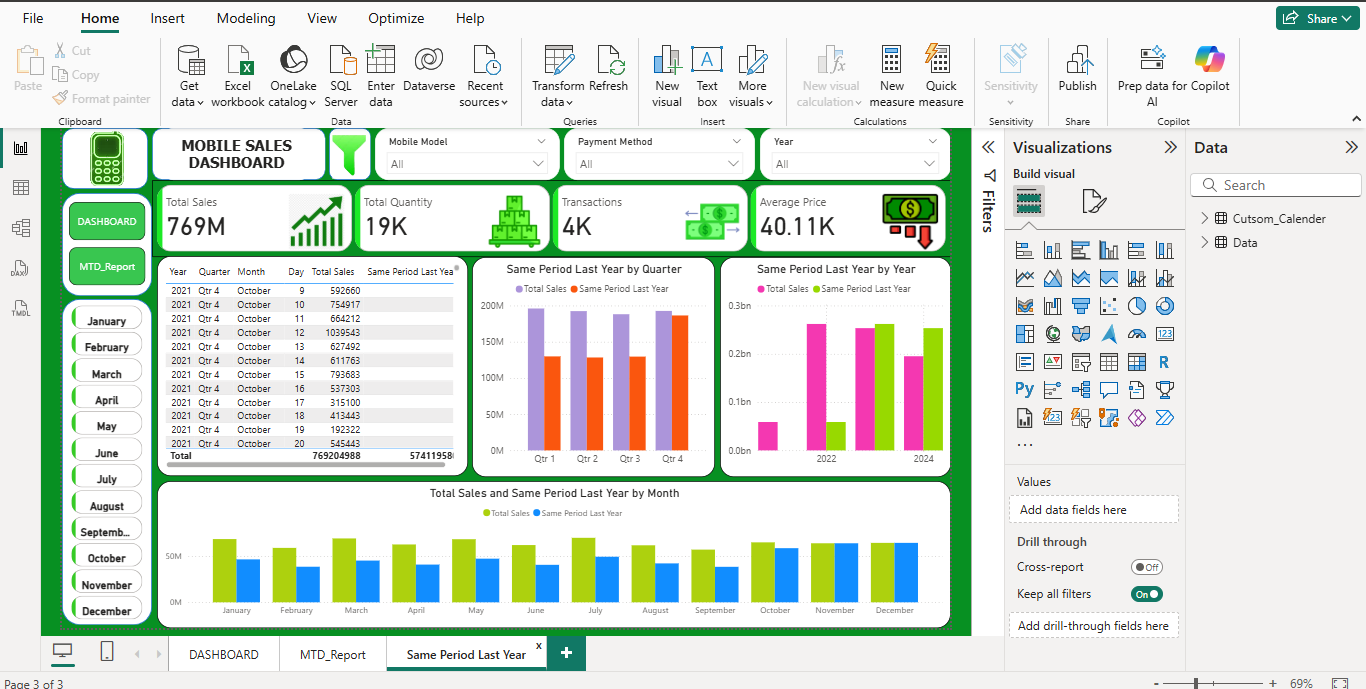

Layout of this report page (visuals, bound fields, positions):
{"tool":"powerbi","page":{"name":"Same Period Last Year","canvas":[1280,720],"ordinal":2},"visuals":[{"type":"shape","box":[0,0,123.8,87.8],"z":0},{"type":"image","box":[0,0,129.6,87.8],"z":1000},{"type":"shape","box":[0,93,129.6,148.3],"z":2000},{"type":"cardVisual","fields":{"Data":["Data.Total Sales","Data.Total Quantity","Data.Transactions","Data.Average Price"]},"box":[129.6,74.9,1150.6,110.9],"z":3000},{"type":"slicer","fields":{"Values":["Data.Mobile Model"]},"box":[451,0,266,74.9],"z":4000},{"type":"shape","box":[384.5,0,60.5,74.9],"z":5000},{"type":"slicer","fields":{"Values":["Data.Payment Method"]},"box":[723,0,275,74.9],"z":6000},{"type":"shape","box":[129.6,0,250,74.9],"z":7000},{"type":"slicer","fields":{"Values":["Cutsom_Calender.Date.Variation.Date Hierarchy.Year"]},"box":[1005,0,275,74.9],"z":8000},{"type":"image","box":[384.5,0,57.6,77.8],"z":9000},{"type":"textbox","box":[141.1,0,220.3,74.9],"z":10000},{"type":"shape","box":[0,246,129.6,469.4],"z":11000},{"type":"advancedSlicerVisual","fields":{"Values":["Cutsom_Calender.Date.Variation.Date Hierarchy.Month"]},"box":[8.6,250.6,112.3,469.4],"z":12000},{"type":"tableEx","fields":{"Values":["Cutsom_Calender.Date.Variation.Date Hierarchy.Year","Cutsom_Calender.Date.Variation.Date Hierarchy.Quarter","Cutsom_Calender.Date.Variation.Date Hierarchy.Month","Cutsom_Calender.Date.Variation.Date Hierarchy.Day","Data.Total Sales","Data.Same Period Last Year"]},"box":[136.8,184.3,447.8,316.8],"z":13000},{"type":"clusteredColumnChart","title":"Same Period Last Year by Year","fields":{"Category":["Cutsom_Calender.Date.Variation.Date Hierarchy.Year","Cutsom_Calender.Date.Variation.Date Hierarchy.Quarter","Cutsom_Calender.Date.Variation.Date Hierarchy.Month","Cutsom_Calender.Date.Variation.Date Hierarchy.Day"],"Y":["Data.Total Sales","Data.Same Period Last Year"]},"box":[947,185.8,333,316.8],"z":14000},{"type":"clusteredColumnChart","fields":{"Category":["Cutsom_Calender.Date.Variation.Date Hierarchy.Year","Cutsom_Calender.Date.Variation.Date Hierarchy.Quarter","Cutsom_Calender.Date.Variation.Date Hierarchy.Month","Cutsom_Calender.Date.Variation.Date Hierarchy.Day"],"Y":["Data.Total Sales","Data.Same Period Last Year"]},"box":[136.8,508.3,1143.4,211.7],"z":15000},{"type":"clusteredColumnChart","title":"Same Period Last Year by Quarter","fields":{"Category":["Cutsom_Calender.Date.Variation.Date Hierarchy.Year","Cutsom_Calender.Date.Variation.Date Hierarchy.Quarter","Cutsom_Calender.Date.Variation.Date Hierarchy.Month","Cutsom_Calender.Date.Variation.Date Hierarchy.Day"],"Y":["Data.Total Sales","Data.Same Period Last Year"]},"box":[590,185.8,349.9,316.8],"z":16000},{"type":"pageNavigator","box":[10.1,106.6,110.9,121],"z":17000}]}

Visuals, with their boxes on the page's 1280x720 design canvas (x1, y1, x2, y2). These are canvas units, not pixel positions in the 1366x689 screenshot, which may show the page scaled, cropped or inside an application window:
shape: 0/0/124/88
image: 0/0/130/88
shape: 0/93/130/241
cardVisual - Data.Total Sales x Data.Total Quantity: 130/75/1280/186
slicer - Data.Mobile Model: 451/0/717/75
shape: 384/0/445/75
slicer - Data.Payment Method: 723/0/998/75
shape: 130/0/380/75
slicer - Cutsom_Calender.Date.Variation.Date Hierarchy.Year: 1005/0/1280/75
image: 384/0/442/78
textbox: 141/0/361/75
shape: 0/246/130/715
advancedSlicerVisual - Cutsom_Calender.Date.Variation.Date Hierarchy.Month: 9/251/121/720
tableEx - Cutsom_Calender.Date.Variation.Date Hierarchy.Year x Cutsom_Calender.Date.Variation.Date Hierarchy.Quarter: 137/184/585/501
"Same Period Last Year by Year" clusteredColumnChart: 947/186/1280/503
clusteredColumnChart - Cutsom_Calender.Date.Variation.Date Hierarchy.Year x Cutsom_Calender.Date.Variation.Date Hierarchy.Quarter: 137/508/1280/720
"Same Period Last Year by Quarter" clusteredColumnChart: 590/186/940/503
pageNavigator: 10/107/121/228
